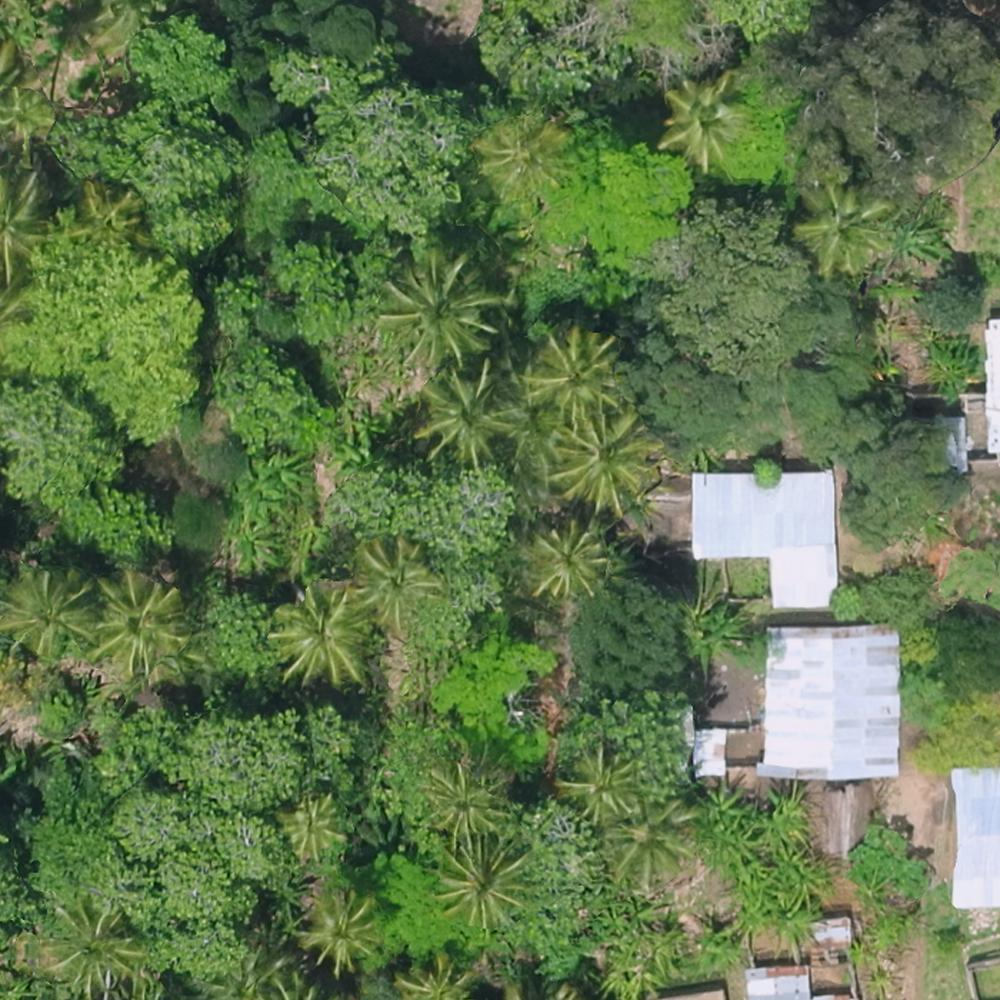Palm: (386, 251, 497, 364), (552, 414, 655, 512), (412, 364, 516, 460), (88, 577, 186, 676), (266, 590, 362, 685), (1, 572, 95, 667), (435, 834, 531, 926), (529, 330, 618, 423), (42, 899, 135, 988), (794, 182, 886, 271), (351, 534, 440, 626), (607, 802, 695, 890), (662, 77, 744, 165), (296, 883, 380, 967), (554, 744, 641, 823), (520, 522, 608, 597), (424, 762, 513, 830), (274, 793, 340, 858)
